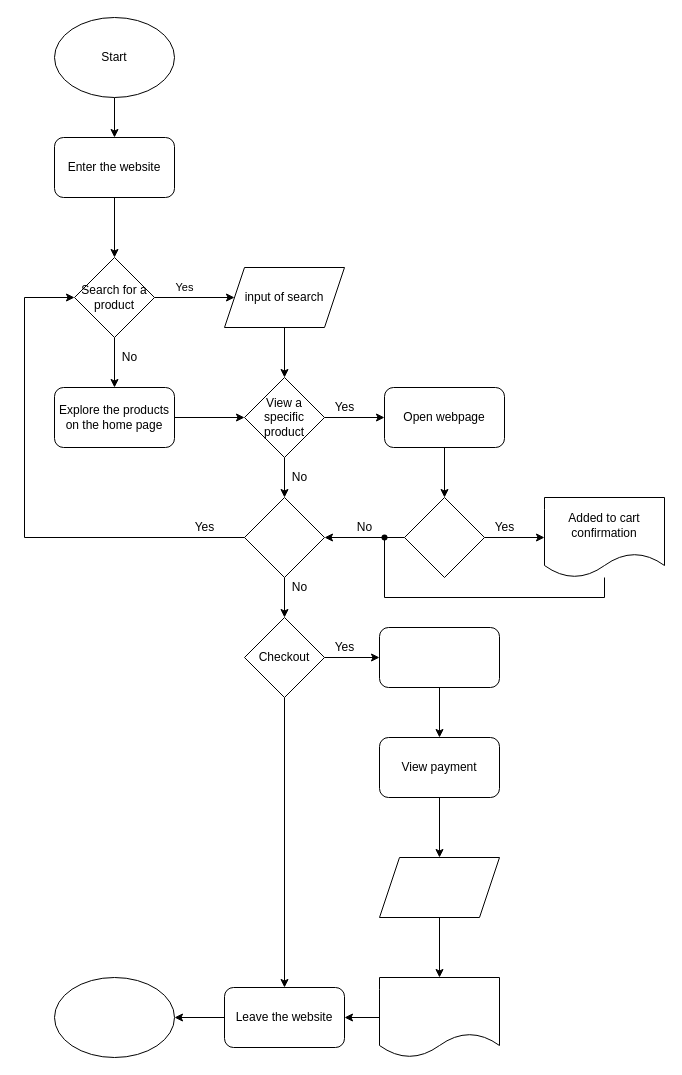
Image size: 682x1075. Some labels were removed from this diagram. The box of each missing label's shape, as (x1, y1, x2, y2) in pixels:
Add to cart: (404, 496, 484, 578)
Continue shopping: (244, 496, 324, 578)
End: (54, 976, 174, 1058)
Input payment information: (378, 856, 500, 918)
Order confirmation screen and email: (378, 976, 500, 1058)
View cart: (378, 626, 500, 688)
